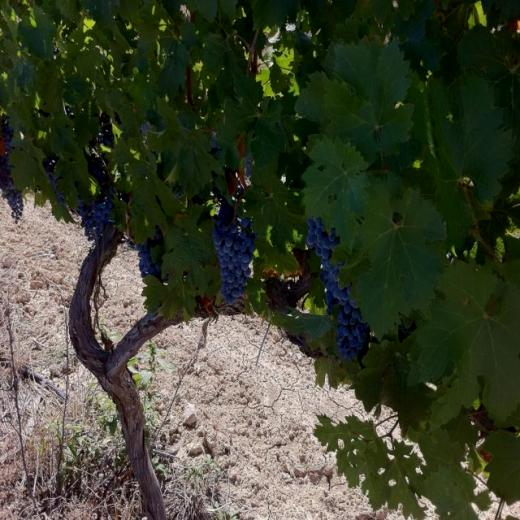Orange: (308, 216, 370, 362), (212, 207, 256, 305), (78, 154, 114, 240), (0, 121, 22, 221), (136, 224, 165, 282), (44, 162, 64, 204), (100, 110, 114, 148), (172, 182, 186, 198)
